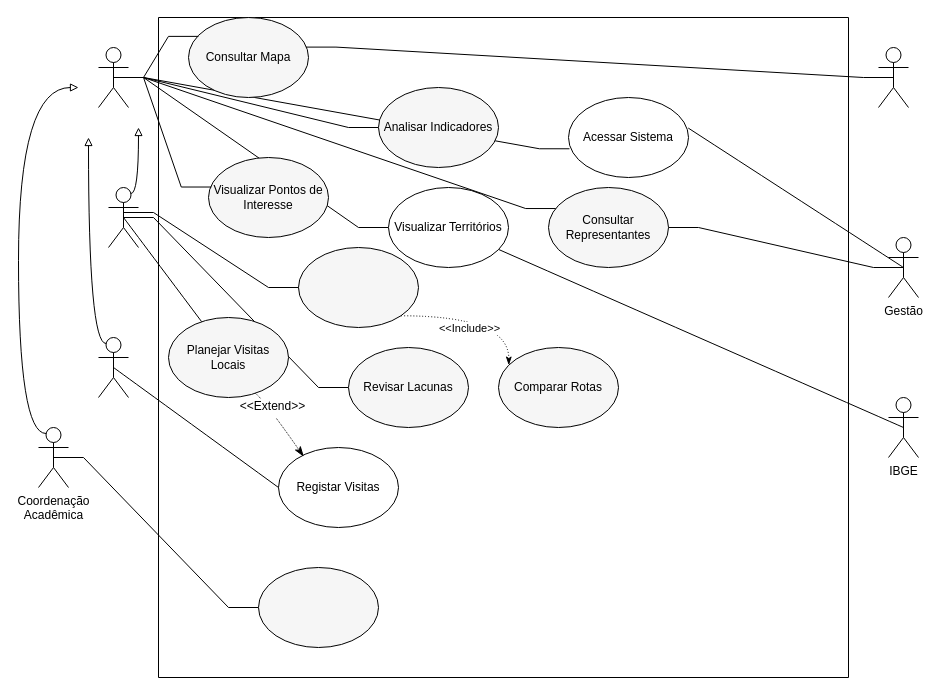
This 940x695 diagram has some shape labels left out. The shapes that lost their labels are listed below. From the top down, each one's box as (x1, y1, x2, y2) in pixels, then its label:
(98, 46, 128, 108): Observador
(878, 46, 908, 108): GPS
(108, 186, 138, 248): Analista Territorial
(298, 246, 418, 328): Gerar Rota
(98, 336, 128, 398): Representante de Campo
(258, 566, 378, 648): Demonstrar Matriz de Permissão
